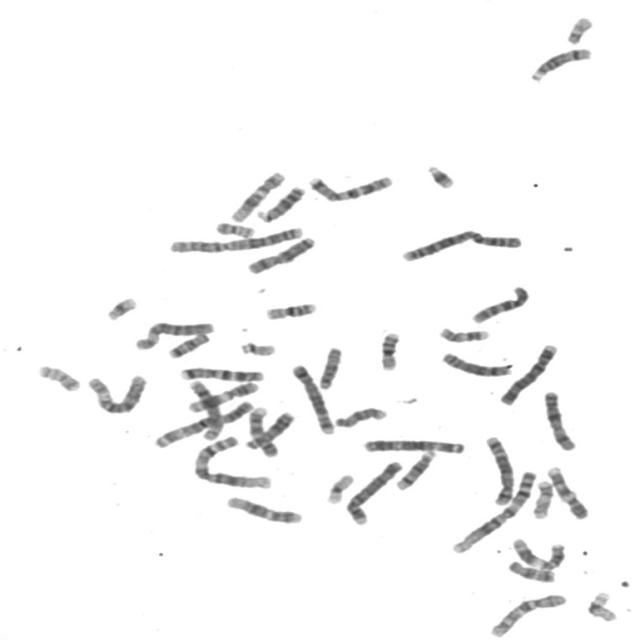A1: (447, 465, 540, 555), (188, 433, 276, 490)
A2: (394, 224, 524, 263), (162, 220, 306, 254)
A3: (149, 396, 258, 449), (358, 434, 468, 456)
B4: (494, 339, 560, 406), (340, 457, 404, 526)
B5: (287, 360, 337, 436), (479, 431, 517, 506)
C10: (484, 588, 569, 638), (466, 282, 532, 324)
C11: (182, 377, 262, 413), (508, 534, 568, 572)
C12: (225, 166, 288, 223), (220, 492, 304, 525)
C6: (82, 369, 149, 415), (129, 317, 216, 352)
C7: (303, 170, 395, 203), (175, 363, 266, 382)
C8: (182, 376, 226, 441), (436, 348, 515, 378)
C9: (542, 462, 591, 520), (242, 402, 280, 458)
D13: (239, 407, 296, 450), (250, 180, 306, 222)
D14: (524, 43, 594, 83), (391, 447, 438, 491)
D15: (329, 402, 388, 429), (313, 343, 344, 391)
E16: (374, 327, 403, 372), (260, 298, 318, 320)
E17: (434, 322, 491, 343), (528, 477, 554, 520)
E18: (502, 556, 558, 584), (163, 328, 212, 359)
F19: (582, 587, 620, 623), (321, 470, 357, 505)
F20: (32, 360, 82, 393), (211, 218, 258, 238)
G21: (100, 292, 140, 322), (420, 160, 458, 190)
G22: (561, 11, 595, 45), (235, 337, 278, 357)
X: (242, 232, 318, 276), (538, 387, 578, 452)
